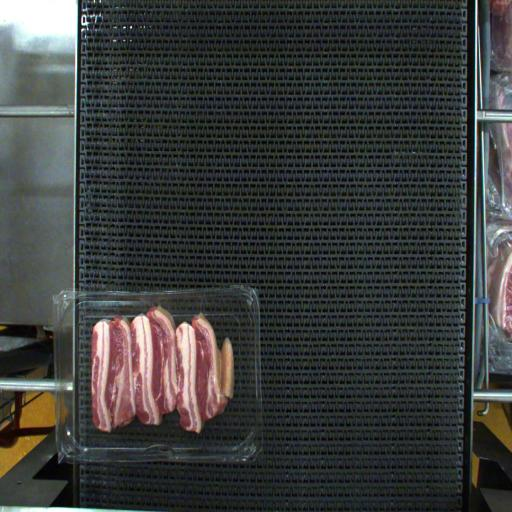packaging-error: (131, 284, 213, 320)
